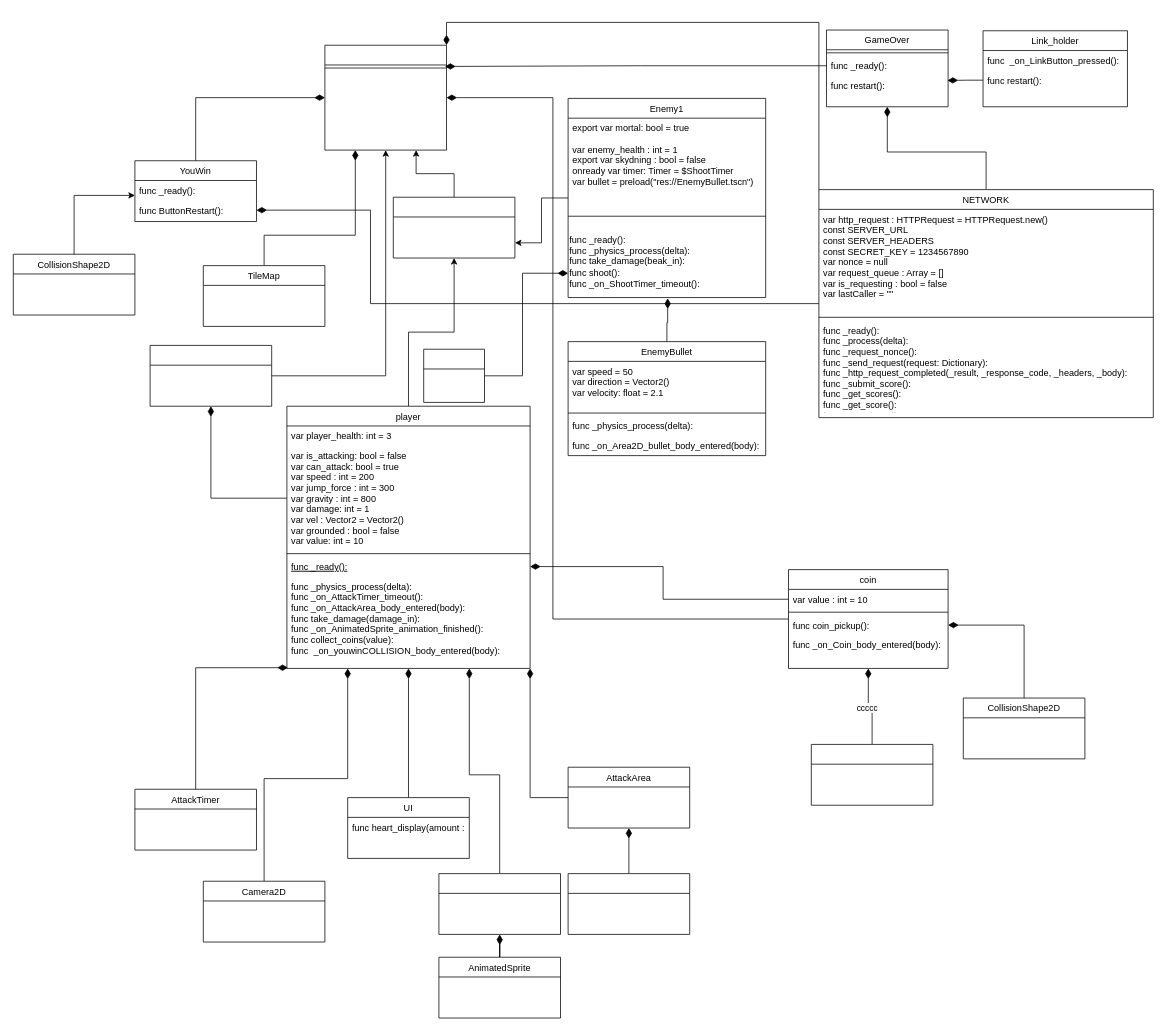
The diagram is 1167 pixels wide and 1031 high, and some of its shapes have lost their labels. The shapes that lost their labels are listed below. From the top down, each one's centre as x and y in pixels, then its label:
the point at 385,97: main
the point at 454,227: entities
the point at 210,375: bagrund
the point at 453,375: ShootTimer
the point at 872,774: Sprite
the point at 499,903: player_body
the point at 628,903: AttackCollisionShape2D
